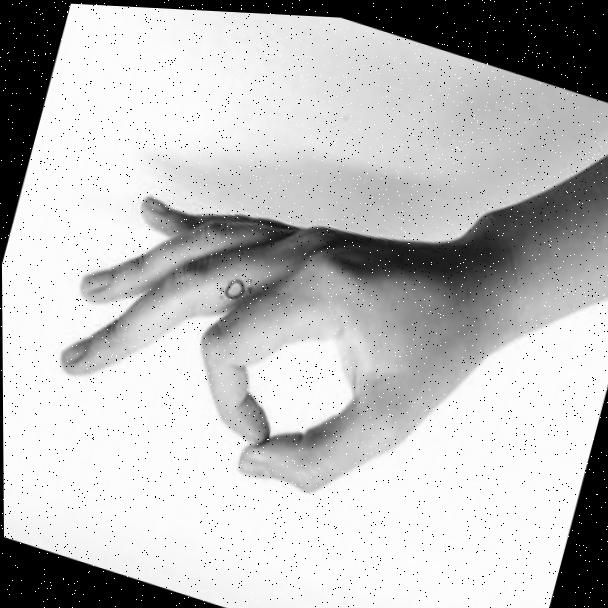five: (24, 114, 508, 552)
